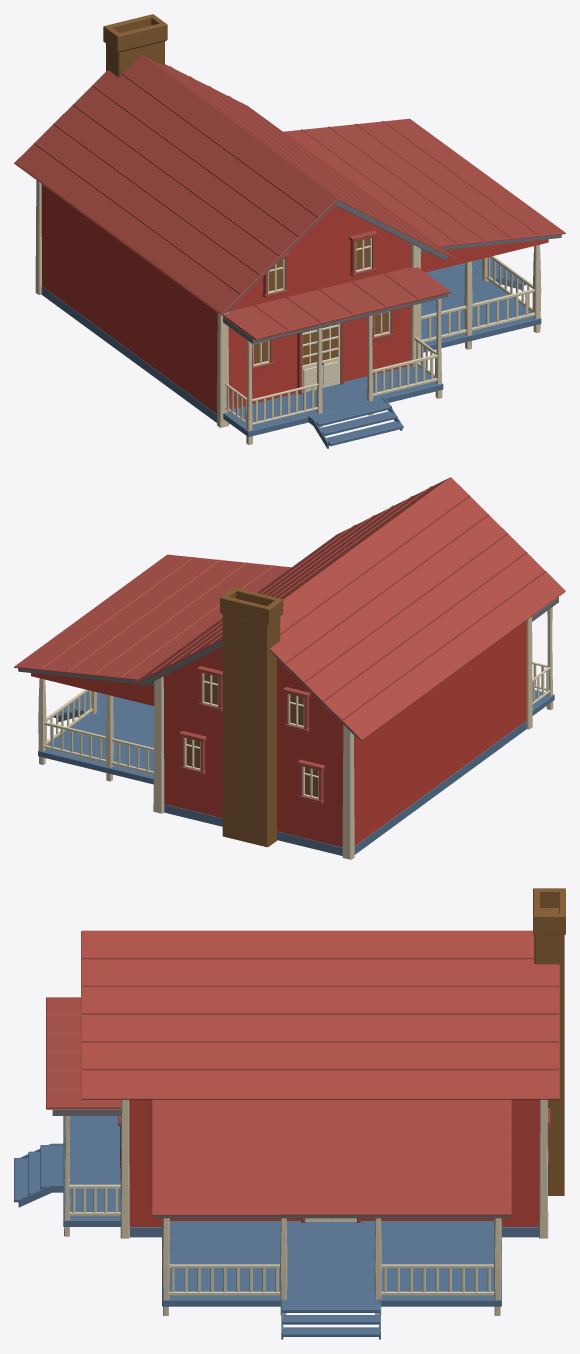
File: farmhouse_a03.gltf
3 renders of one model, top to bottom at view 1: azimuth 30°, elevation 25°; view 2: azimuth 150°, elevation 25°; view 3: azimuth 270°, elevation 25°, orthographic. The views are drawn at different scales.
Visible parts, largest first — view 1: farmhouse_a03_001, Box1806, Box1874, Box1880, Rectangle039, Box1869, Plane059, Rectangle045, Box1861, Box1872; view 2: farmhouse_a03_001, Box1806, Box1869, Box1874, Box1880, Box1872, Box1861, Rectangle045, Plane059, Rectangle039; view 3: farmhouse_a03_001, Box1874, Box1806, Box1880, Box1869, Rectangle045, Rectangle039, Box1872.
Part boxes in pixels (x1,y1,x2,y2): farmhouse_a03_001: [14, 55, 565, 365]; Box1806: [41, 184, 548, 413]; Box1874: [223, 258, 541, 448]; Box1880: [35, 180, 541, 444]; Rectangle039: [225, 337, 437, 424]; Box1869: [103, 14, 167, 77]; Plane059: [253, 237, 390, 392]; Rectangle045: [421, 256, 534, 342]; Box1861: [252, 230, 394, 394]; Box1872: [41, 286, 229, 423]; farmhouse_a03_001: [14, 477, 565, 797]; Box1806: [31, 620, 526, 847]; Box1869: [220, 587, 283, 847]; Box1874: [38, 690, 554, 784]; Box1880: [38, 607, 553, 859]; Box1872: [164, 721, 526, 855]; Box1861: [179, 666, 324, 803]; Rectangle045: [44, 689, 153, 774]; Plane059: [184, 673, 318, 799]; Rectangle039: [532, 661, 550, 704]; farmhouse_a03_001: [46, 930, 559, 1218]; Box1874: [14, 1116, 501, 1339]; Box1806: [129, 1099, 539, 1226]; Box1880: [64, 1099, 548, 1315]; Box1869: [533, 888, 565, 1195]; Rectangle045: [169, 1264, 494, 1295]; Rectangle039: [69, 1184, 120, 1215]; Box1872: [129, 1227, 538, 1237].
Bounding box in the file's own units: 14.02 × 8.41 × 14.8.
1 material, 1 textured.
